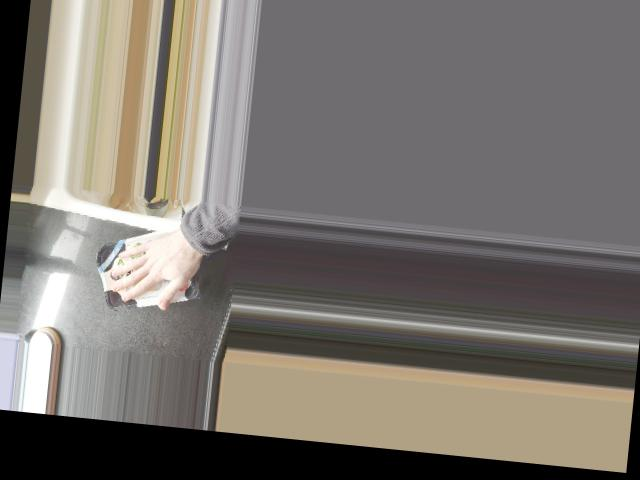cheese: (89, 215, 207, 320)
